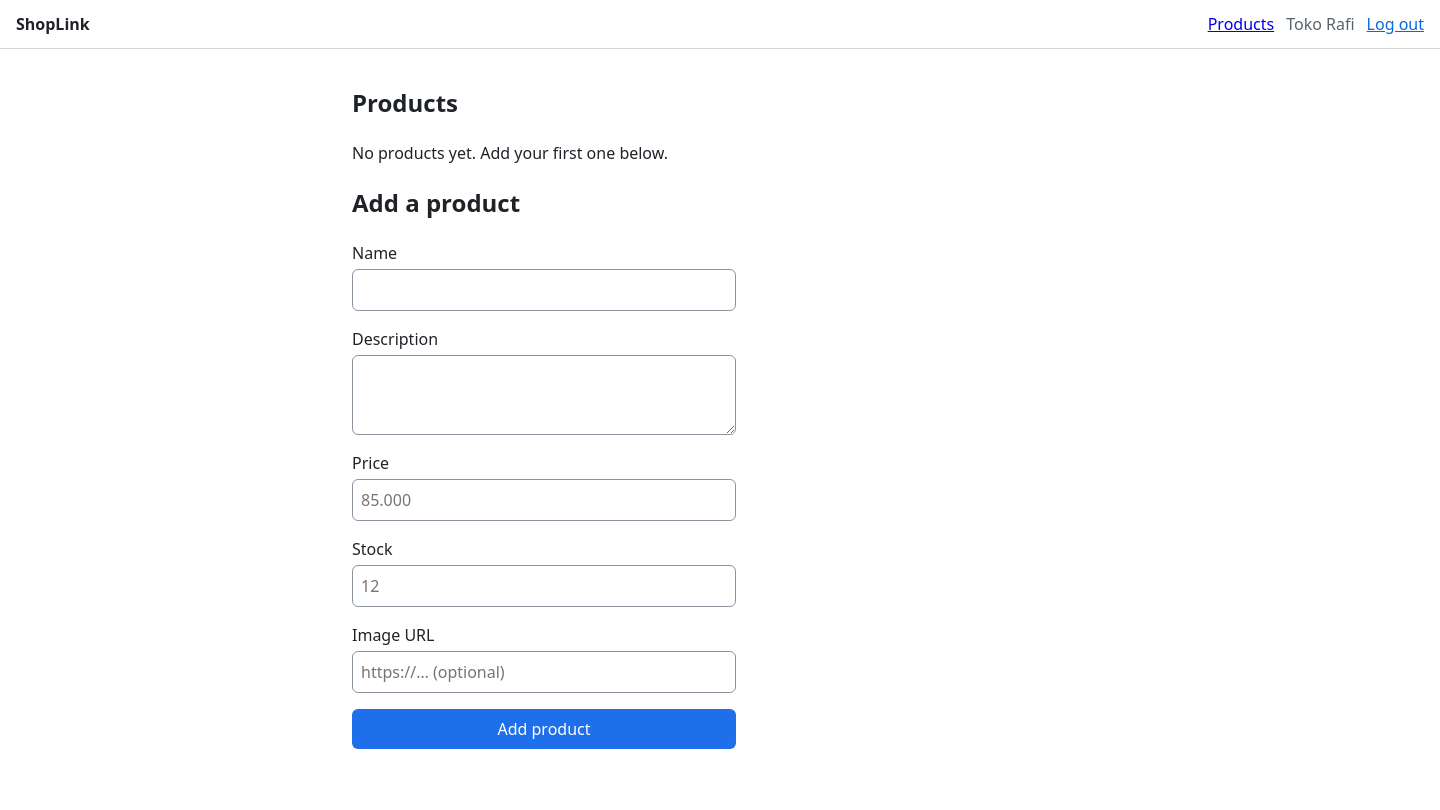
it: products page › catches a price with a decimal point before sending it
The width and height of the screenshot is (1440, 810).
Expected: the text "No products yet. Add your first one below." is shown, [352,142,668,164]
Type "Mug" into the field labelled "Name" at (544, 290), box [352,269,736,311]
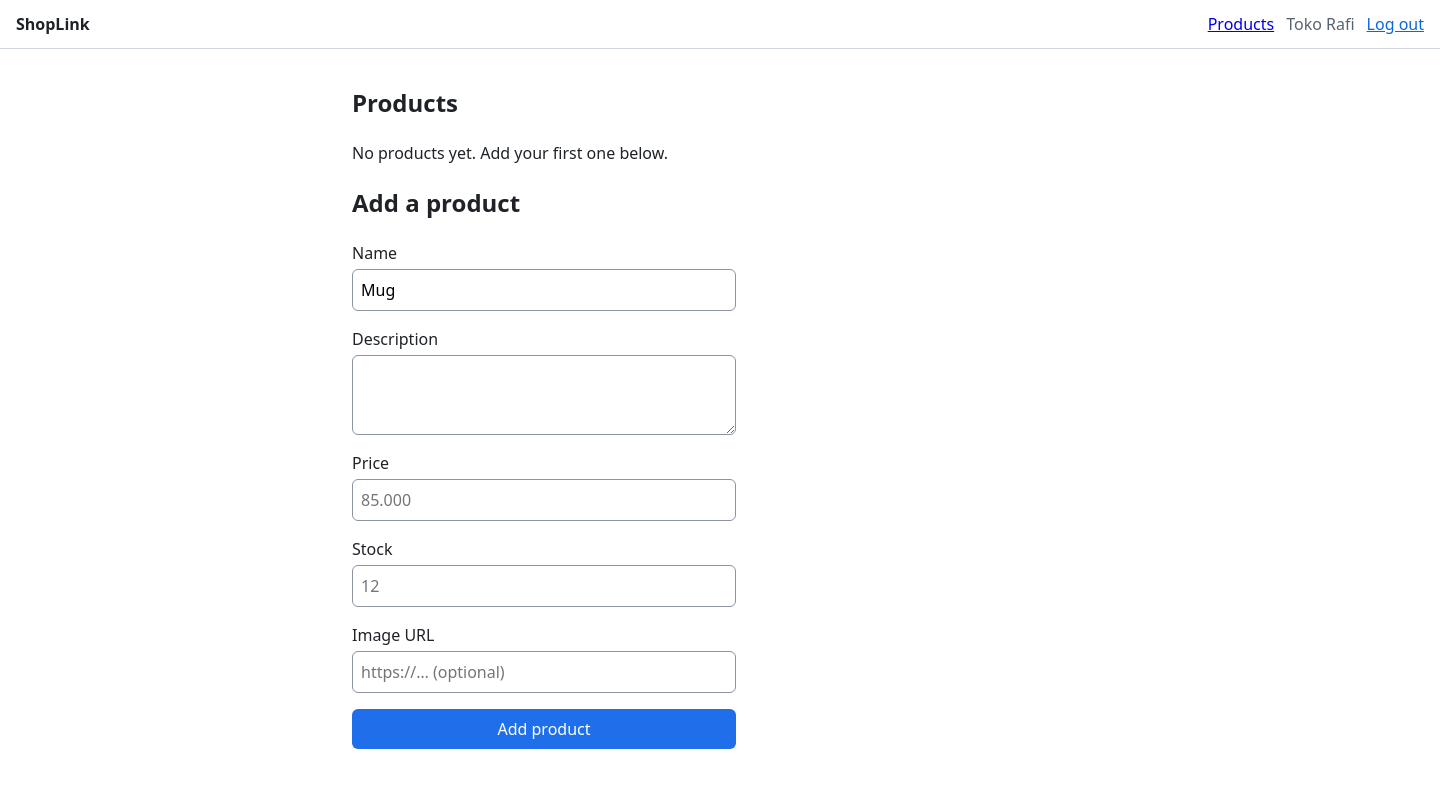
Type "1.5" into the field labelled "Price" at (544, 500), box [352,479,736,521]
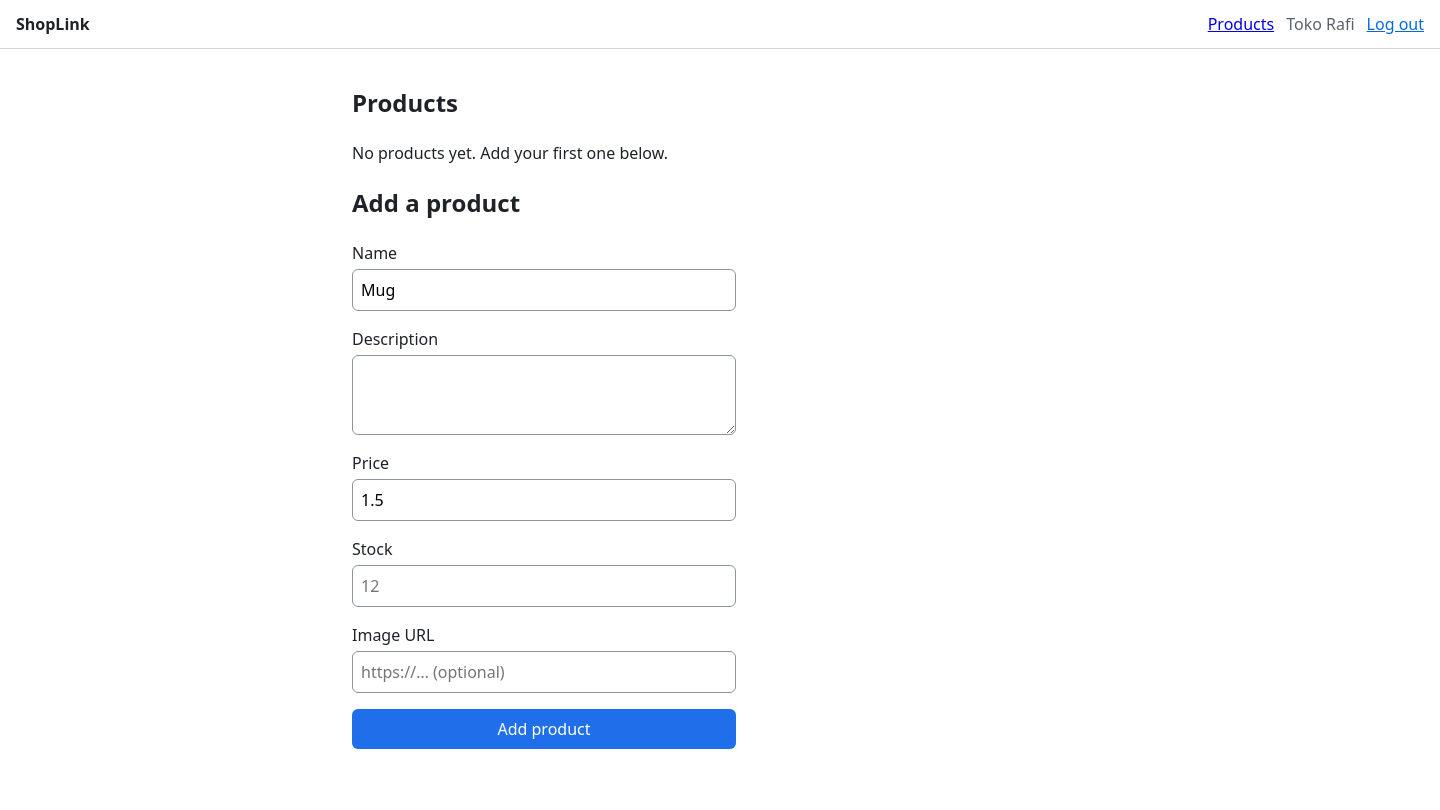
Type "1" into the field labelled "Stock" at (544, 586), box [352,565,736,607]
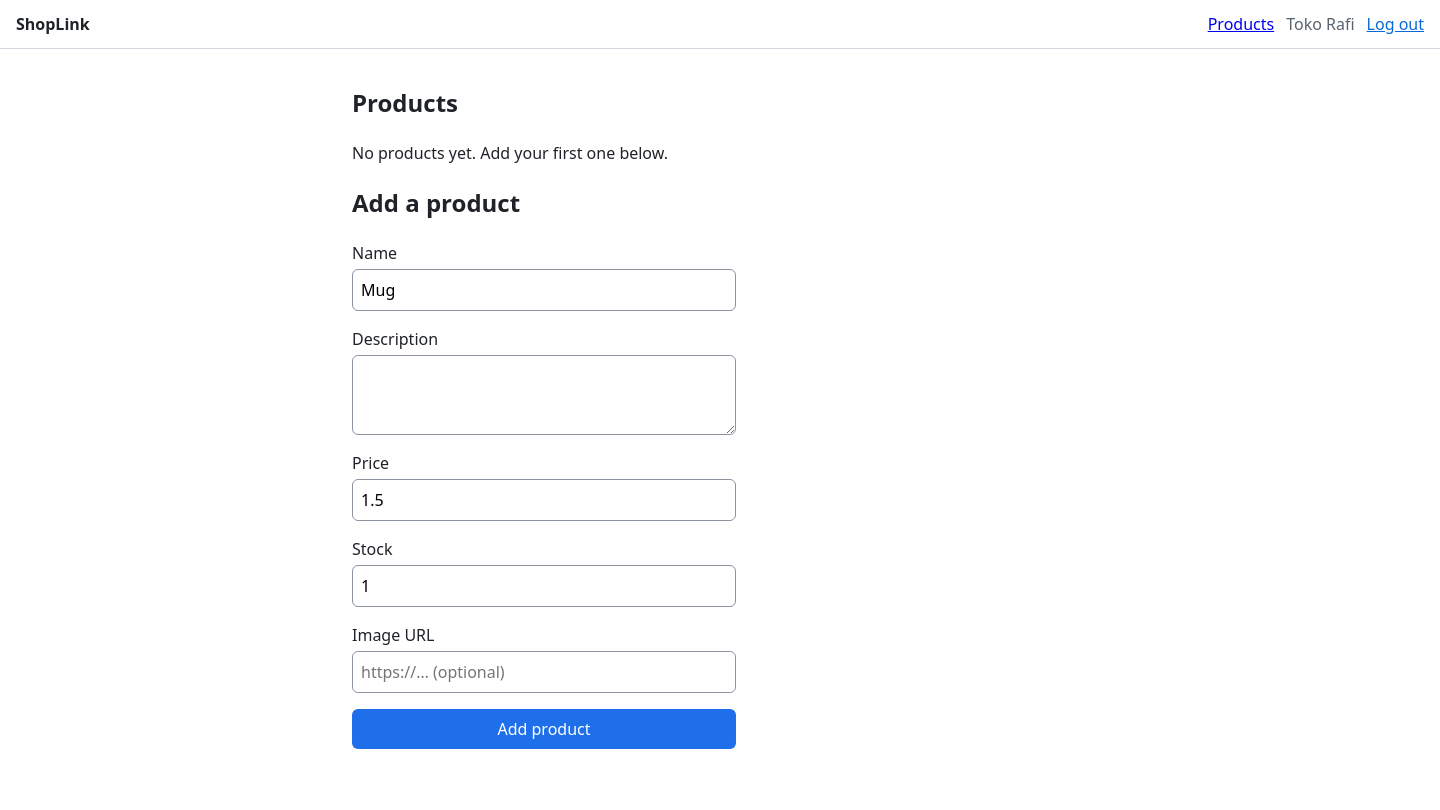
Click the button "Add product" at (544, 729), box [352,709,736,749]
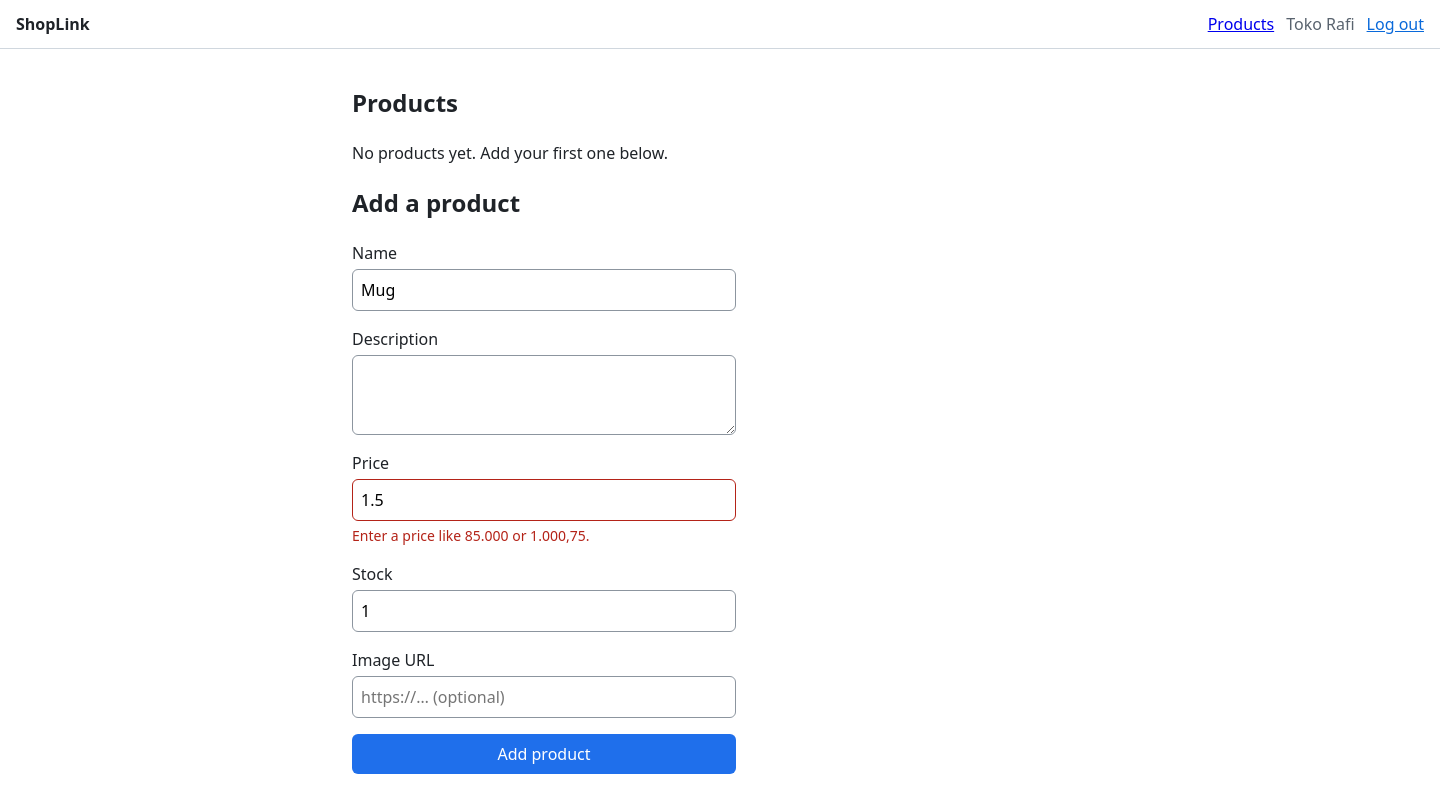
Now the text "Enter a price like 85.000 or 1.000,75." is shown, box [352,526,589,545]
